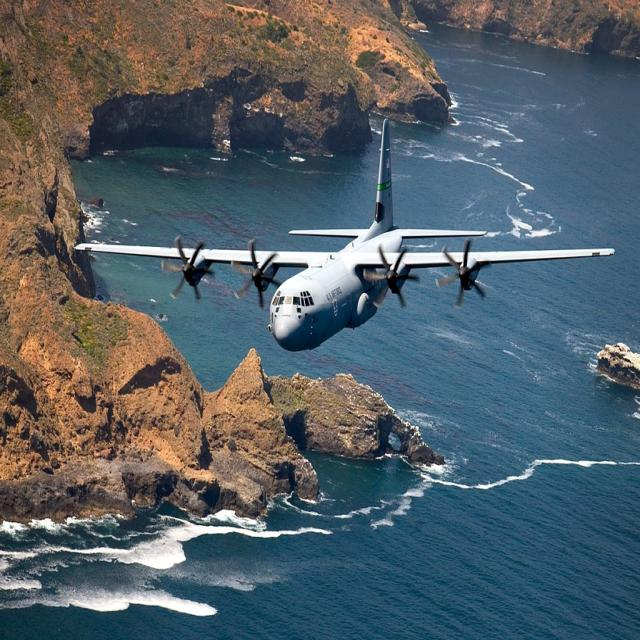C130: (60, 74, 625, 347)
